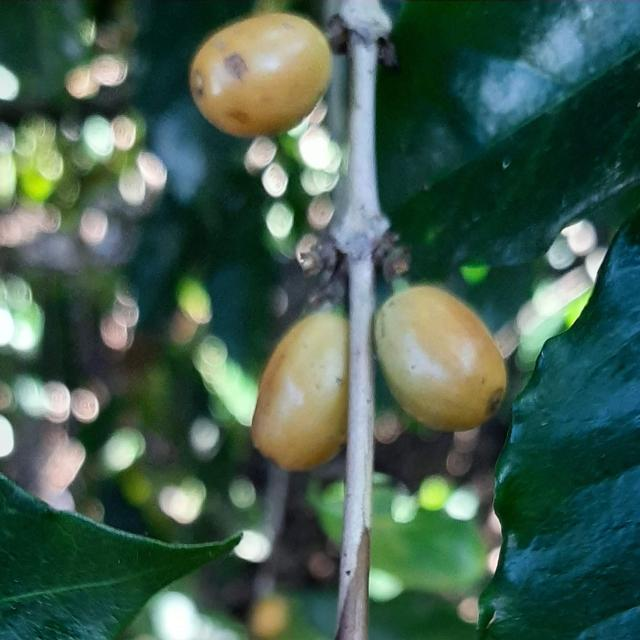yellow: (375, 285, 507, 432), (189, 12, 331, 137), (251, 311, 349, 472)
